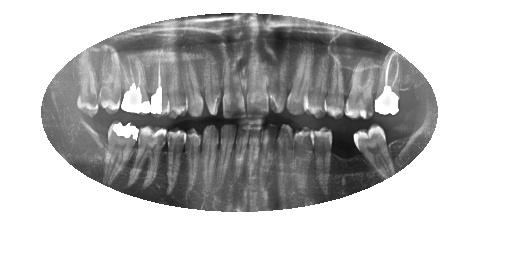i10healthy: (216, 118, 241, 201), (217, 118, 235, 195)
i11healthy: (198, 122, 223, 195)
i12chipped: (184, 124, 204, 196)
i13healthy: (163, 124, 188, 197)
i14healthy: (123, 124, 173, 191)
i15healthy: (101, 117, 142, 187)
i16loss: (80, 114, 110, 177)
i1loss: (386, 122, 418, 162)
i2healthy: (349, 118, 395, 177)
i3loss: (330, 130, 359, 183)
i4healthy: (306, 124, 340, 197)
i5healthy: (288, 121, 315, 199)
i6chipped: (271, 121, 297, 198)
i7healthy: (257, 120, 279, 195)
i8healthy: (244, 116, 262, 192)
i9healthy: (231, 118, 250, 194)
u10chipped: (196, 45, 223, 119)
u11healthy: (180, 52, 207, 118)
u12healthy: (164, 47, 191, 118)
u13healthy: (148, 43, 172, 117)
u14healthy: (116, 45, 156, 117)
u15healthy: (94, 43, 124, 115)
u16healthy: (72, 54, 102, 114)
u1loss: (401, 57, 424, 120)
u2healthy: (369, 41, 406, 118)
u3healthy: (339, 45, 378, 119)
u4healthy: (320, 44, 347, 118)
u5healthy: (303, 42, 329, 119)
u6healthy: (285, 41, 312, 117)
u7chipped: (266, 40, 290, 116)
u8healthy: (243, 38, 273, 118)
u9healthy: (218, 43, 250, 118)
